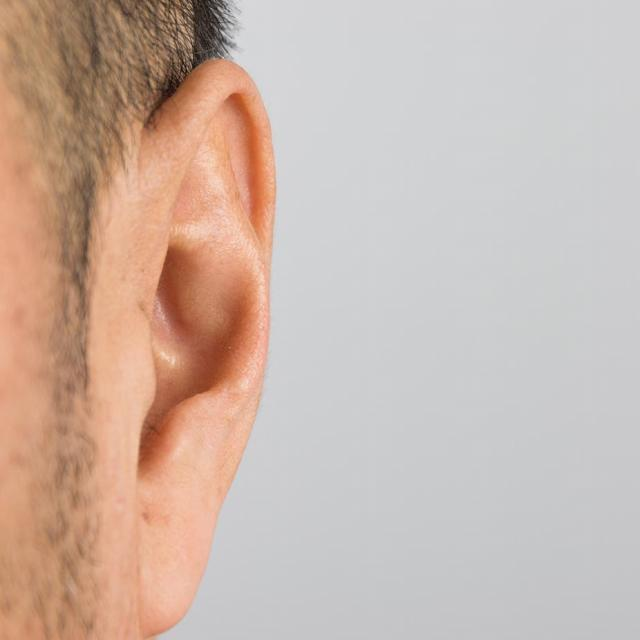earlobe: (129, 57, 276, 636)
